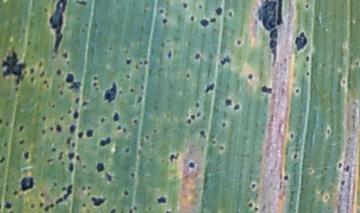tarspot: (257, 1, 283, 65), (49, 1, 67, 56), (1, 48, 26, 85), (295, 32, 308, 51), (105, 82, 116, 103), (19, 176, 34, 191), (90, 195, 106, 207), (204, 82, 216, 94), (167, 151, 180, 162), (260, 84, 274, 94), (68, 80, 81, 90), (98, 136, 111, 146), (220, 55, 231, 66), (156, 195, 167, 204), (198, 127, 207, 138), (66, 184, 72, 200), (105, 171, 113, 183), (54, 196, 64, 205), (68, 123, 77, 133), (199, 18, 209, 27), (55, 122, 63, 133), (112, 111, 119, 123), (96, 163, 105, 172), (249, 180, 257, 190), (23, 150, 30, 161), (66, 73, 74, 82), (86, 128, 94, 137), (224, 98, 233, 106), (193, 52, 202, 60), (226, 10, 234, 19), (77, 129, 84, 139), (337, 160, 343, 171), (4, 201, 12, 209), (67, 151, 75, 159), (188, 161, 196, 169), (122, 145, 130, 153), (216, 7, 224, 15), (325, 126, 332, 135), (57, 151, 63, 161), (167, 50, 173, 60), (29, 75, 36, 83), (42, 79, 49, 87), (73, 110, 80, 118), (233, 103, 240, 111), (189, 14, 196, 22), (209, 16, 217, 23), (77, 1, 88, 6), (39, 69, 45, 78), (74, 94, 80, 103), (68, 163, 74, 172), (344, 163, 349, 173), (62, 51, 69, 58), (38, 191, 45, 198), (43, 204, 50, 211), (47, 156, 54, 163), (75, 154, 82, 161), (307, 167, 314, 174), (98, 116, 105, 123), (194, 101, 201, 108), (64, 58, 71, 65), (128, 86, 135, 93), (125, 58, 132, 65), (158, 8, 165, 15), (292, 152, 298, 160), (136, 96, 142, 104), (304, 55, 310, 63), (304, 2, 310, 10), (236, 39, 242, 47), (182, 1, 188, 9), (56, 69, 62, 76), (18, 124, 24, 131), (19, 139, 26, 145), (51, 146, 57, 153), (40, 128, 46, 135), (124, 189, 130, 196), (130, 171, 136, 178), (283, 174, 289, 181), (323, 194, 330, 200), (211, 138, 217, 145), (132, 118, 138, 125), (189, 113, 196, 119), (125, 73, 131, 80), (137, 59, 143, 66), (304, 70, 310, 77), (247, 73, 253, 80), (38, 60, 43, 68), (1, 156, 6, 164), (53, 179, 58, 187), (340, 179, 345, 187), (355, 60, 360, 68), (12, 190, 18, 196), (49, 203, 55, 209), (61, 186, 67, 192), (82, 101, 88, 107), (81, 202, 87, 208), (86, 191, 92, 197), (253, 207, 259, 213), (117, 88, 123, 94), (295, 88, 301, 94), (341, 79, 347, 85), (162, 18, 168, 24), (198, 4, 204, 10), (43, 7, 48, 14), (30, 67, 35, 74), (30, 202, 35, 209), (39, 201, 44, 208), (92, 81, 97, 88), (71, 141, 76, 148), (133, 204, 138, 211), (248, 201, 253, 208), (145, 133, 150, 140), (186, 72, 191, 79), (14, 86, 20, 91), (26, 40, 31, 46), (42, 115, 47, 121), (3, 141, 8, 147), (59, 115, 65, 120), (67, 137, 72, 143), (81, 185, 86, 191), (110, 208, 116, 213), (127, 208, 133, 213), (290, 134, 295, 140), (116, 125, 122, 130), (122, 127, 127, 133), (187, 118, 192, 124), (196, 111, 201, 117), (140, 84, 145, 90), (123, 49, 129, 54), (143, 59, 148, 65), (68, 108, 72, 115), (165, 209, 172, 213), (1, 117, 4, 126), (60, 90, 65, 95), (51, 103, 56, 108), (49, 126, 54, 131), (93, 75, 98, 80), (82, 164, 87, 169), (87, 185, 92, 190), (147, 205, 152, 210), (153, 128, 158, 133), (81, 29, 86, 34), (108, 46, 113, 51), (220, 144, 224, 150), (138, 150, 142, 155), (222, 123, 226, 128)
